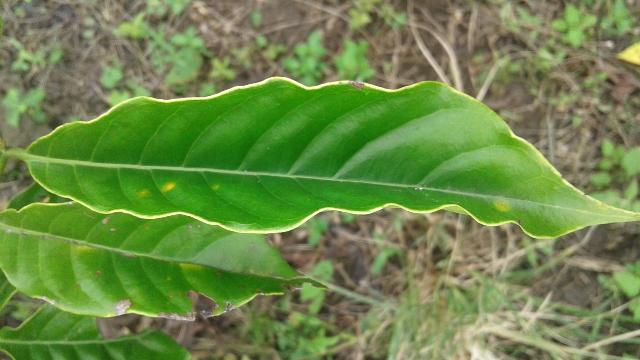rust_level_1: (27, 78, 639, 240)
